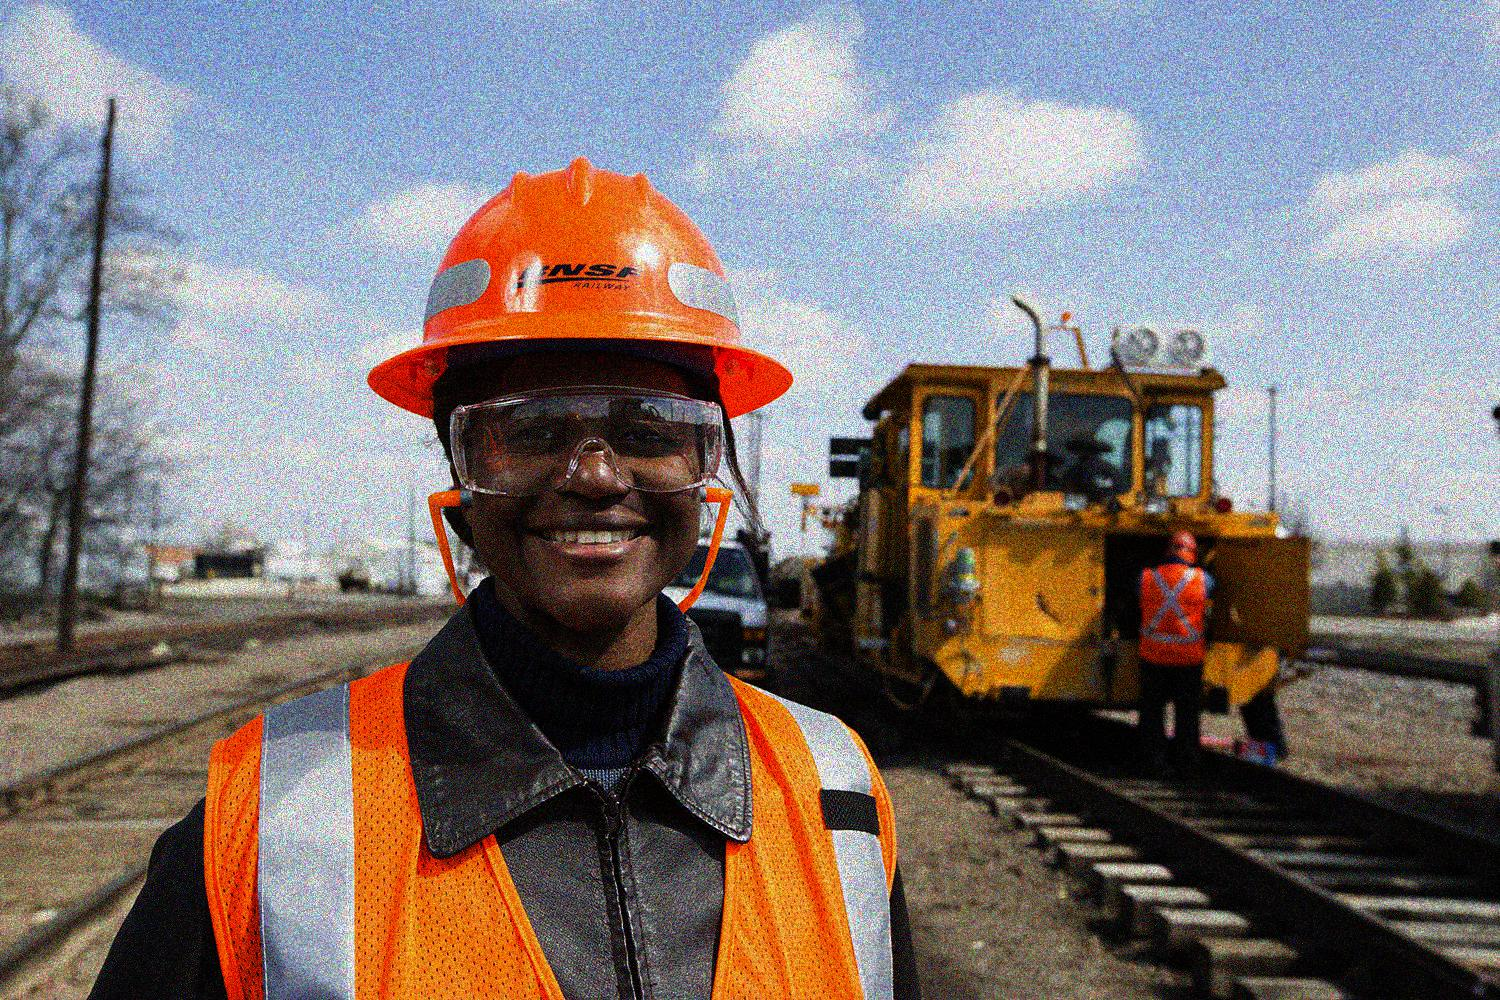helmet: (375, 160, 791, 625), (1161, 526, 1198, 567)
